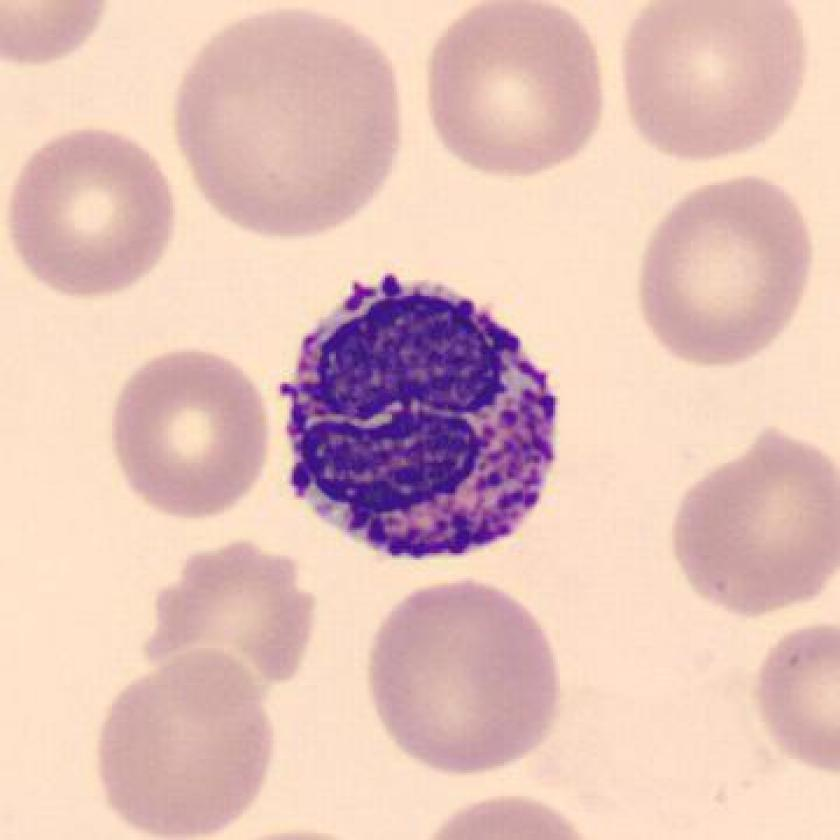basophil: (276, 265, 559, 573)
